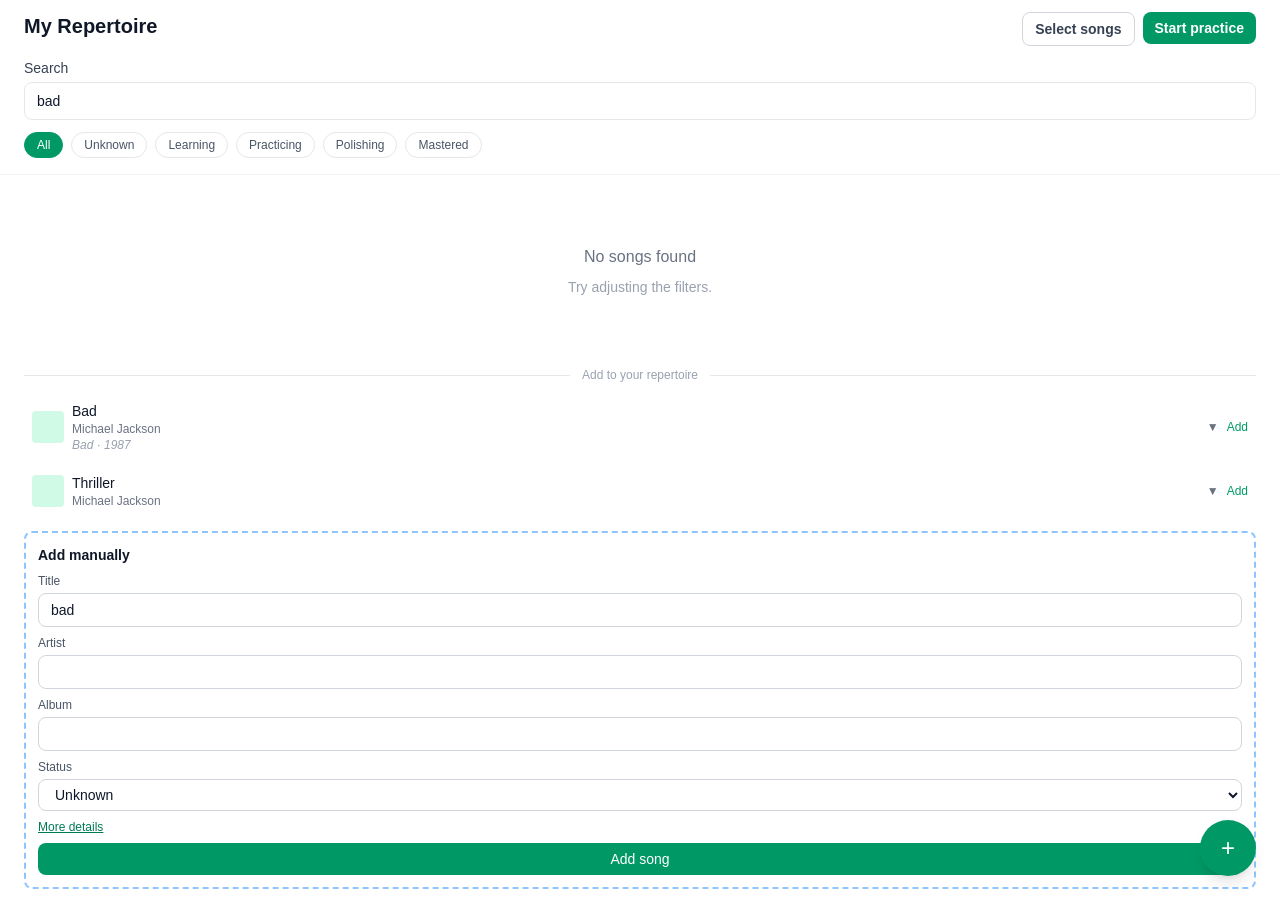
Test: RepertoireDashboard grouped search results (RH-151) › shows an add failure under the card only, and clears it on retry
This screenshot has width=1280, height=900.
Click the 1st button "Add" at point(1237, 427), box 1227,419 -> 1248,435
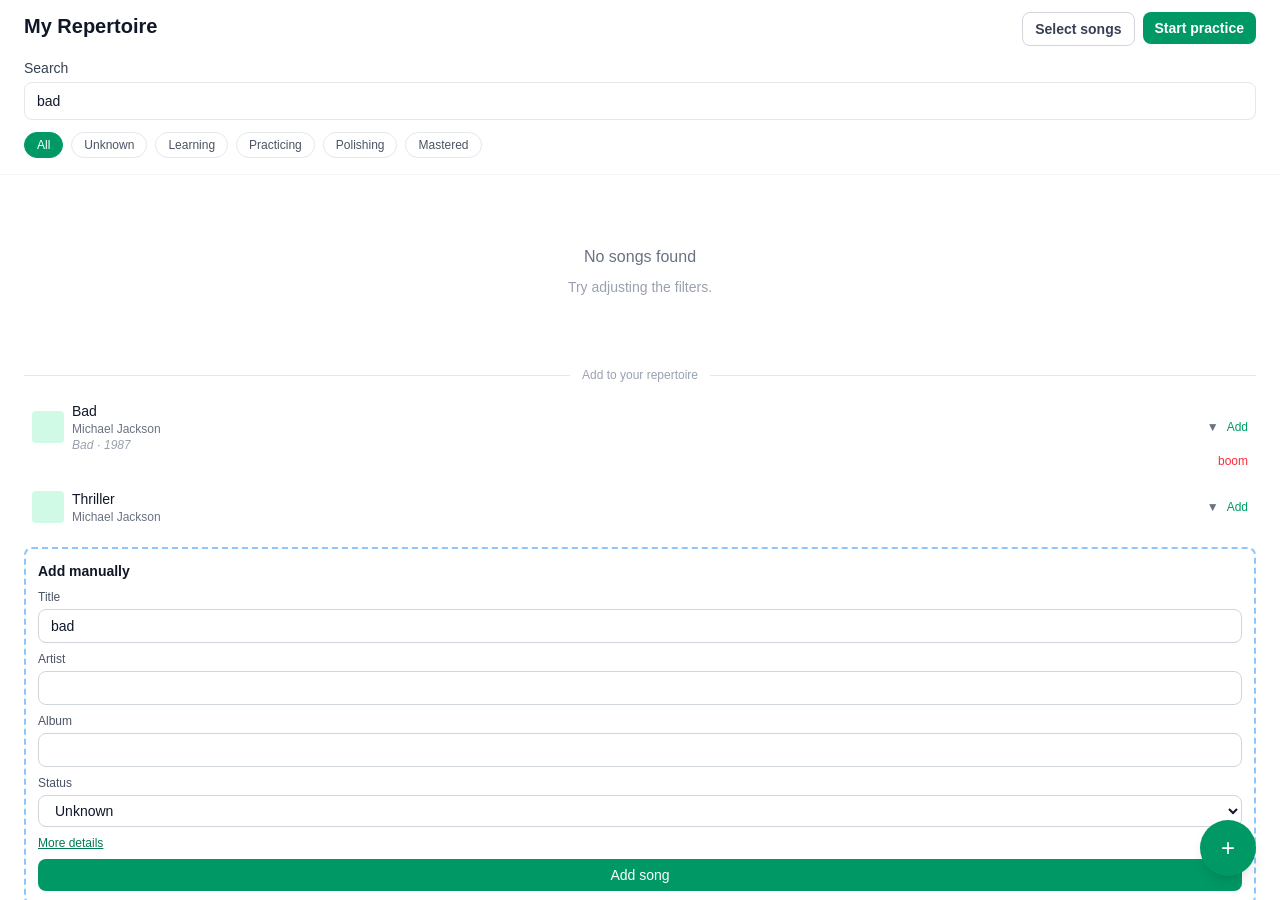
Now the text "boom" is shown once, box 1218,454 -> 1248,468
Click the 1st button "Add" at point(1237, 427), box 1227,419 -> 1248,435
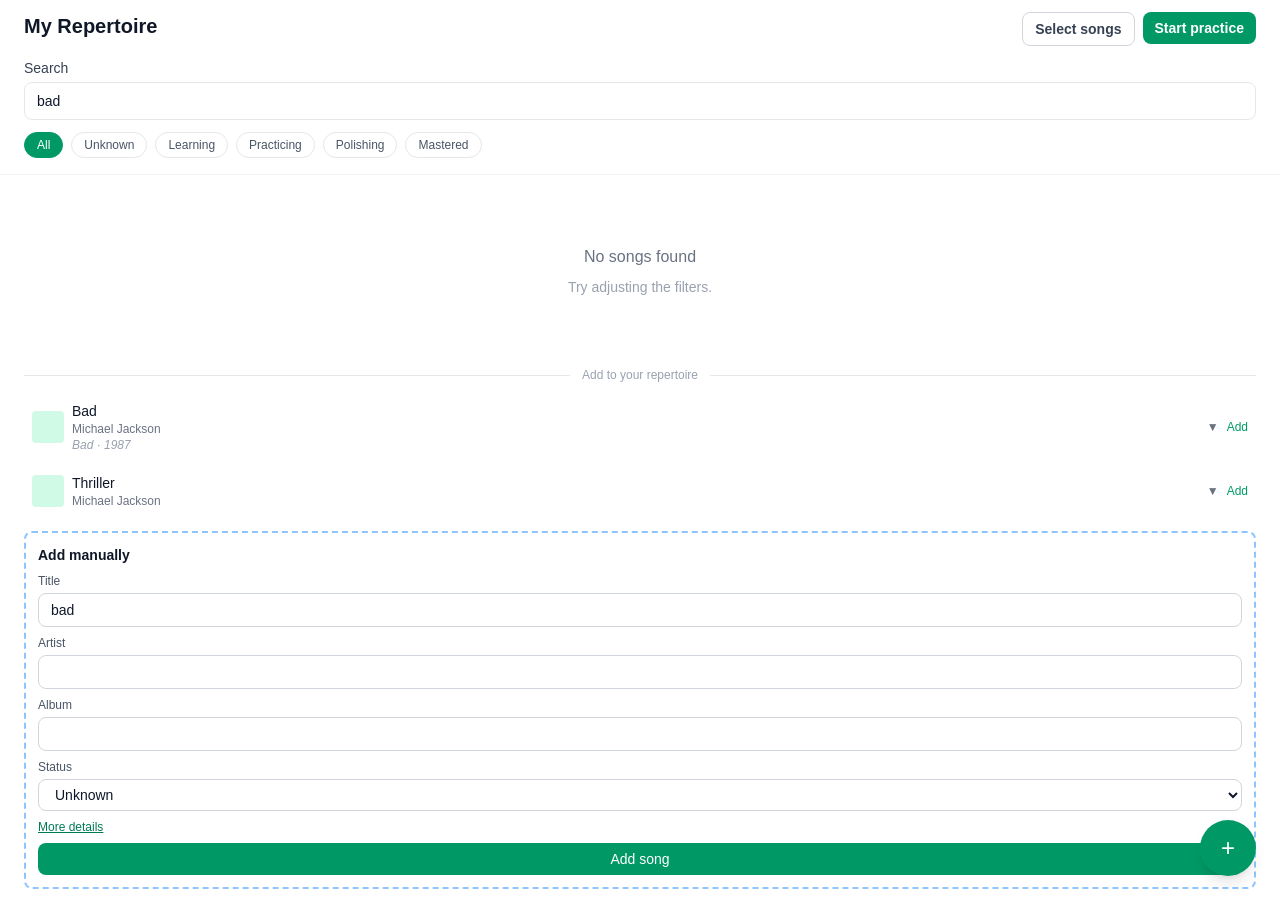
Now the text "boom" is gone
